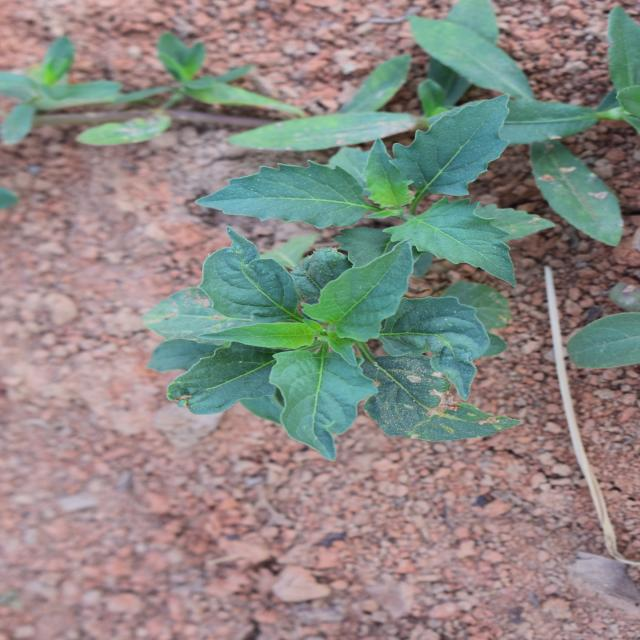Black_nightshade: (186, 145, 441, 520), (386, 209, 539, 529)
